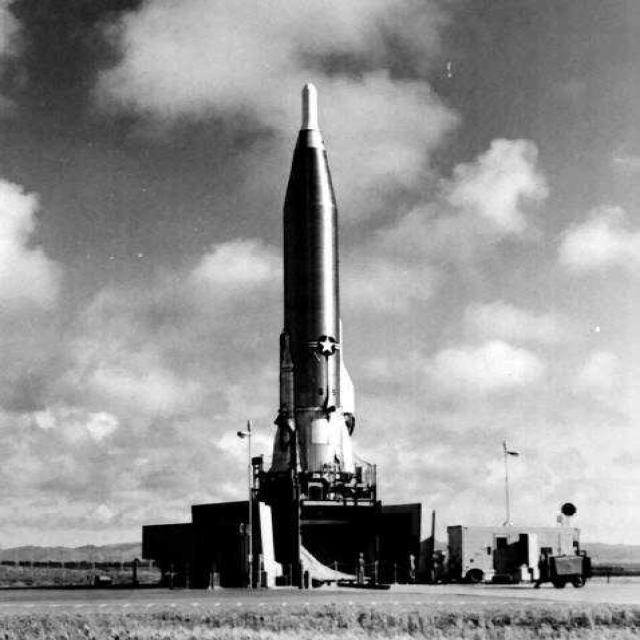missile: (276, 82, 384, 503)
